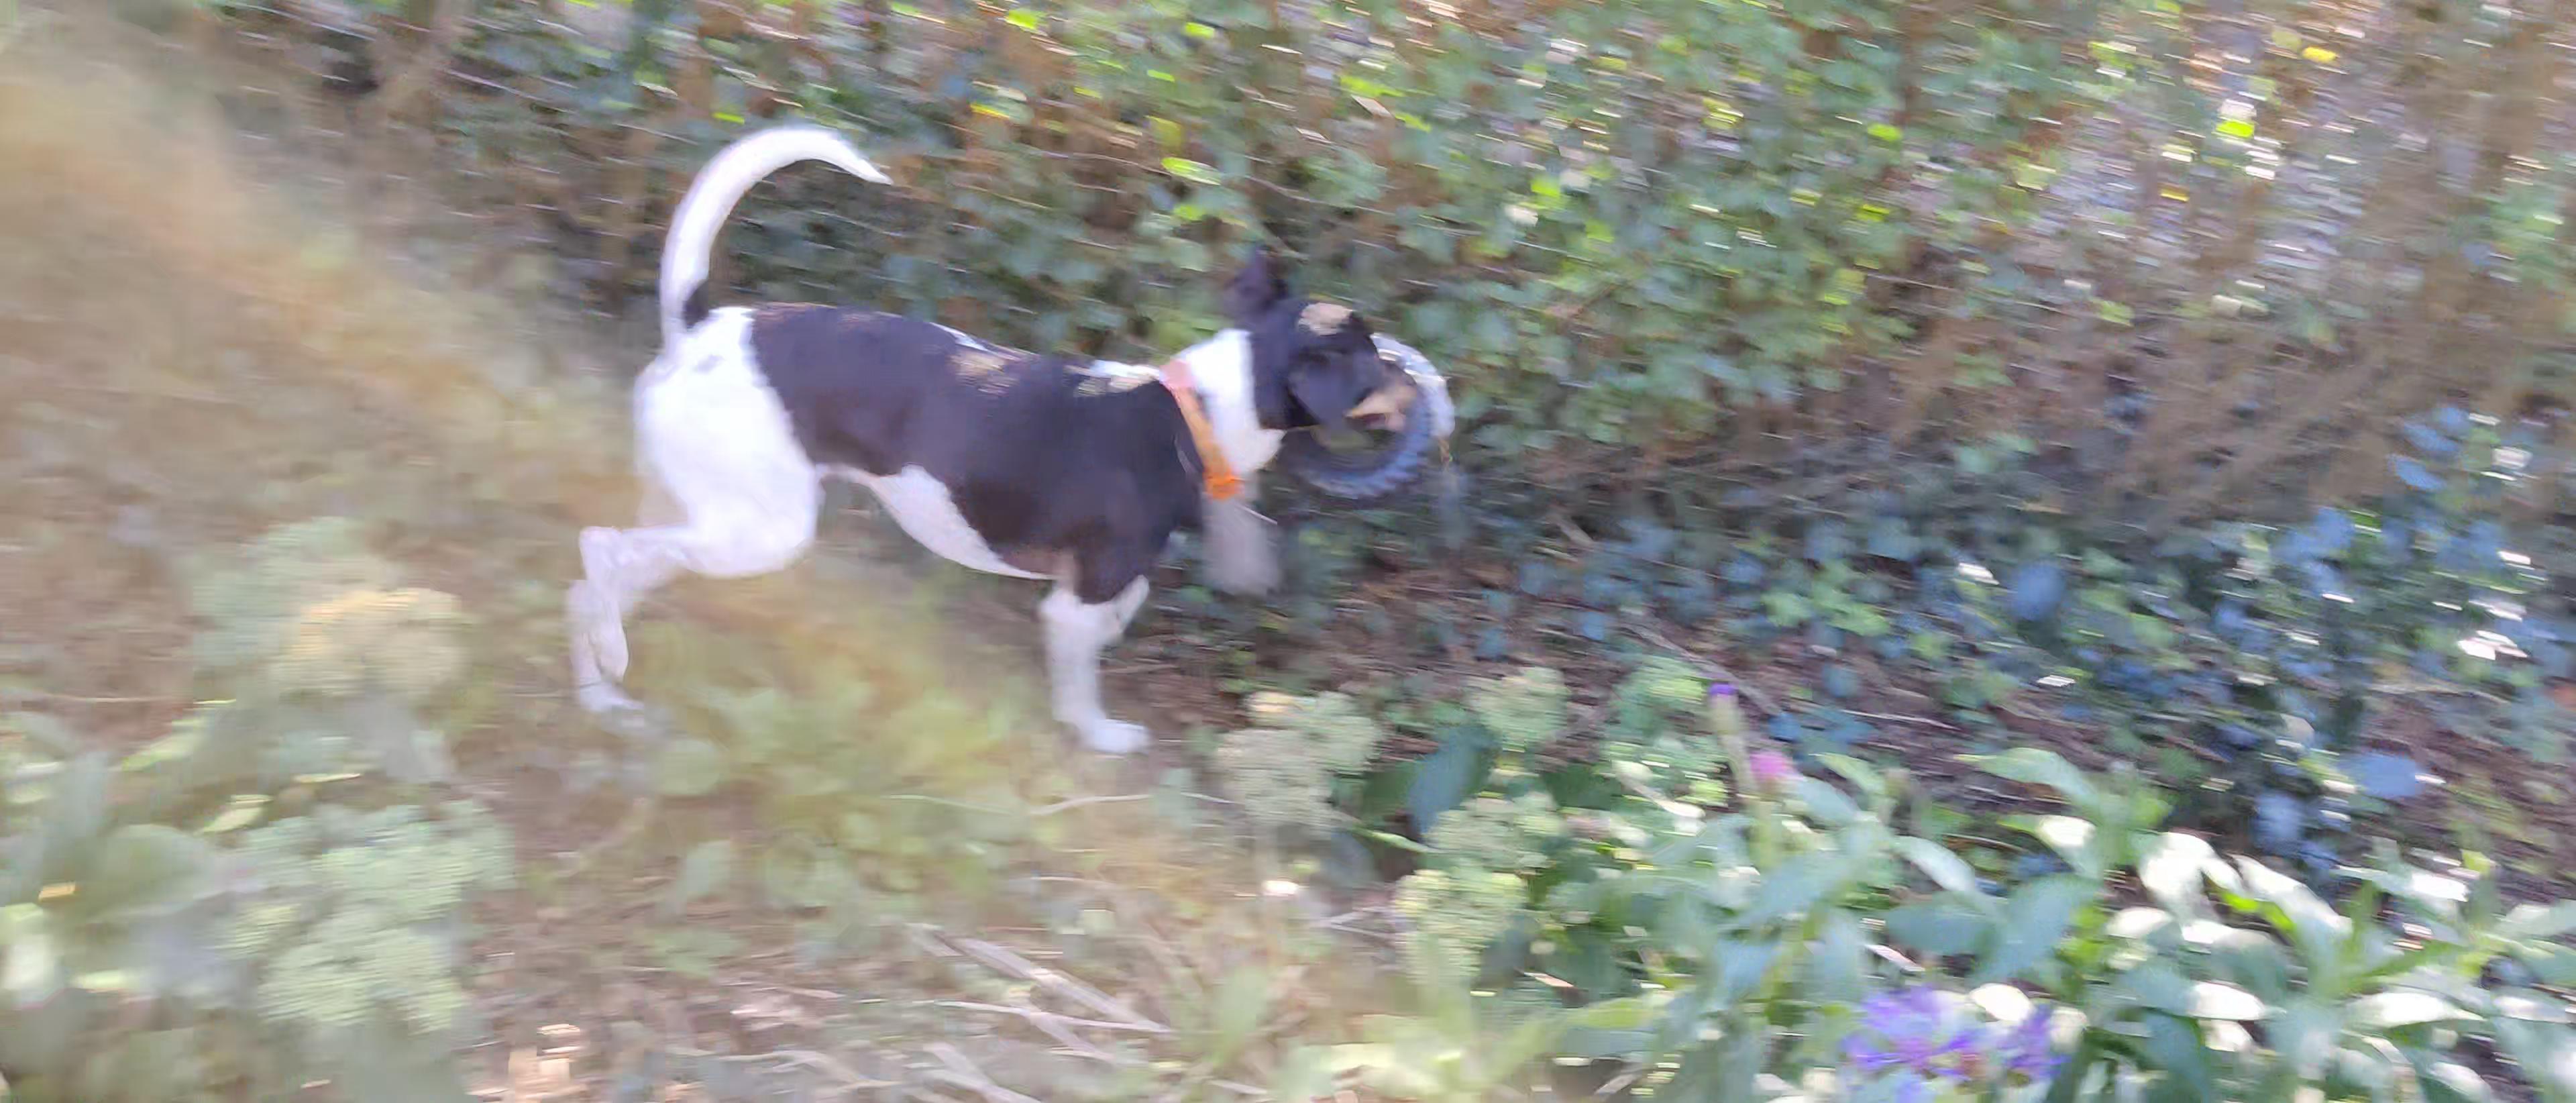Dog: (540, 112, 1418, 764)
